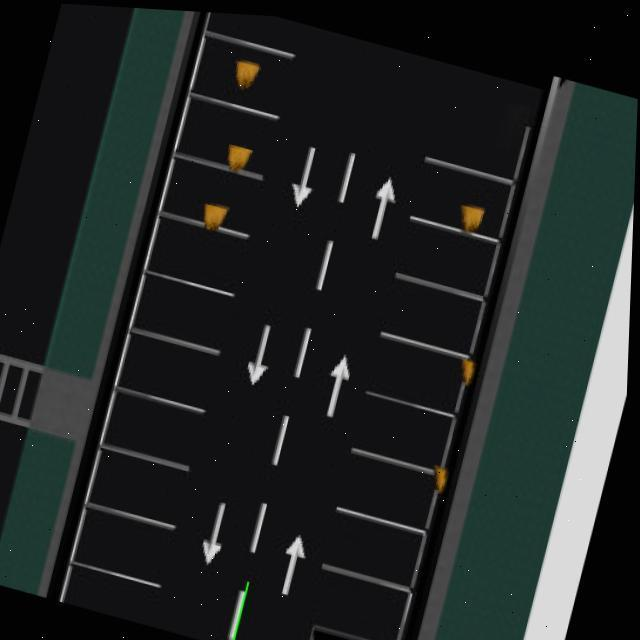garbage-trXY: (233, 56, 261, 89), (199, 199, 228, 228), (226, 142, 252, 170), (459, 202, 484, 231), (459, 358, 476, 379), (432, 463, 446, 483)
